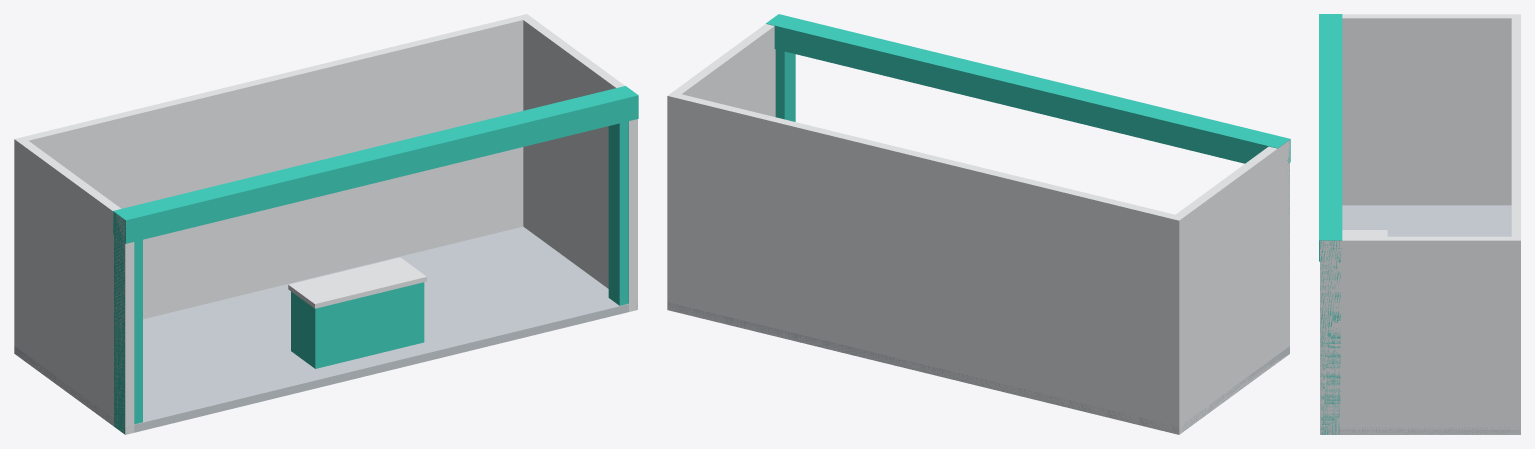
3 views of the same model, side by side, from view 1: azimuth 30°, elevation 25°; view 2: azimuth 150°, elevation 25°; view 3: azimuth 270°, elevation 25° (orthographic). The views are drawn at different scales.
Parts seen in each view (by area): view 1: Exhibition Booth Concept; view 2: Exhibition Booth Concept; view 3: Exhibition Booth Concept.
Boxes of the visible parts, x1,y1,x2,y2 form: Exhibition Booth Concept: [14, 14, 638, 434]; Exhibition Booth Concept: [667, 14, 1290, 434]; Exhibition Booth Concept: [1319, 14, 1520, 434].
Bounding box in the file's own units: 8 × 3.2 × 3.01.
